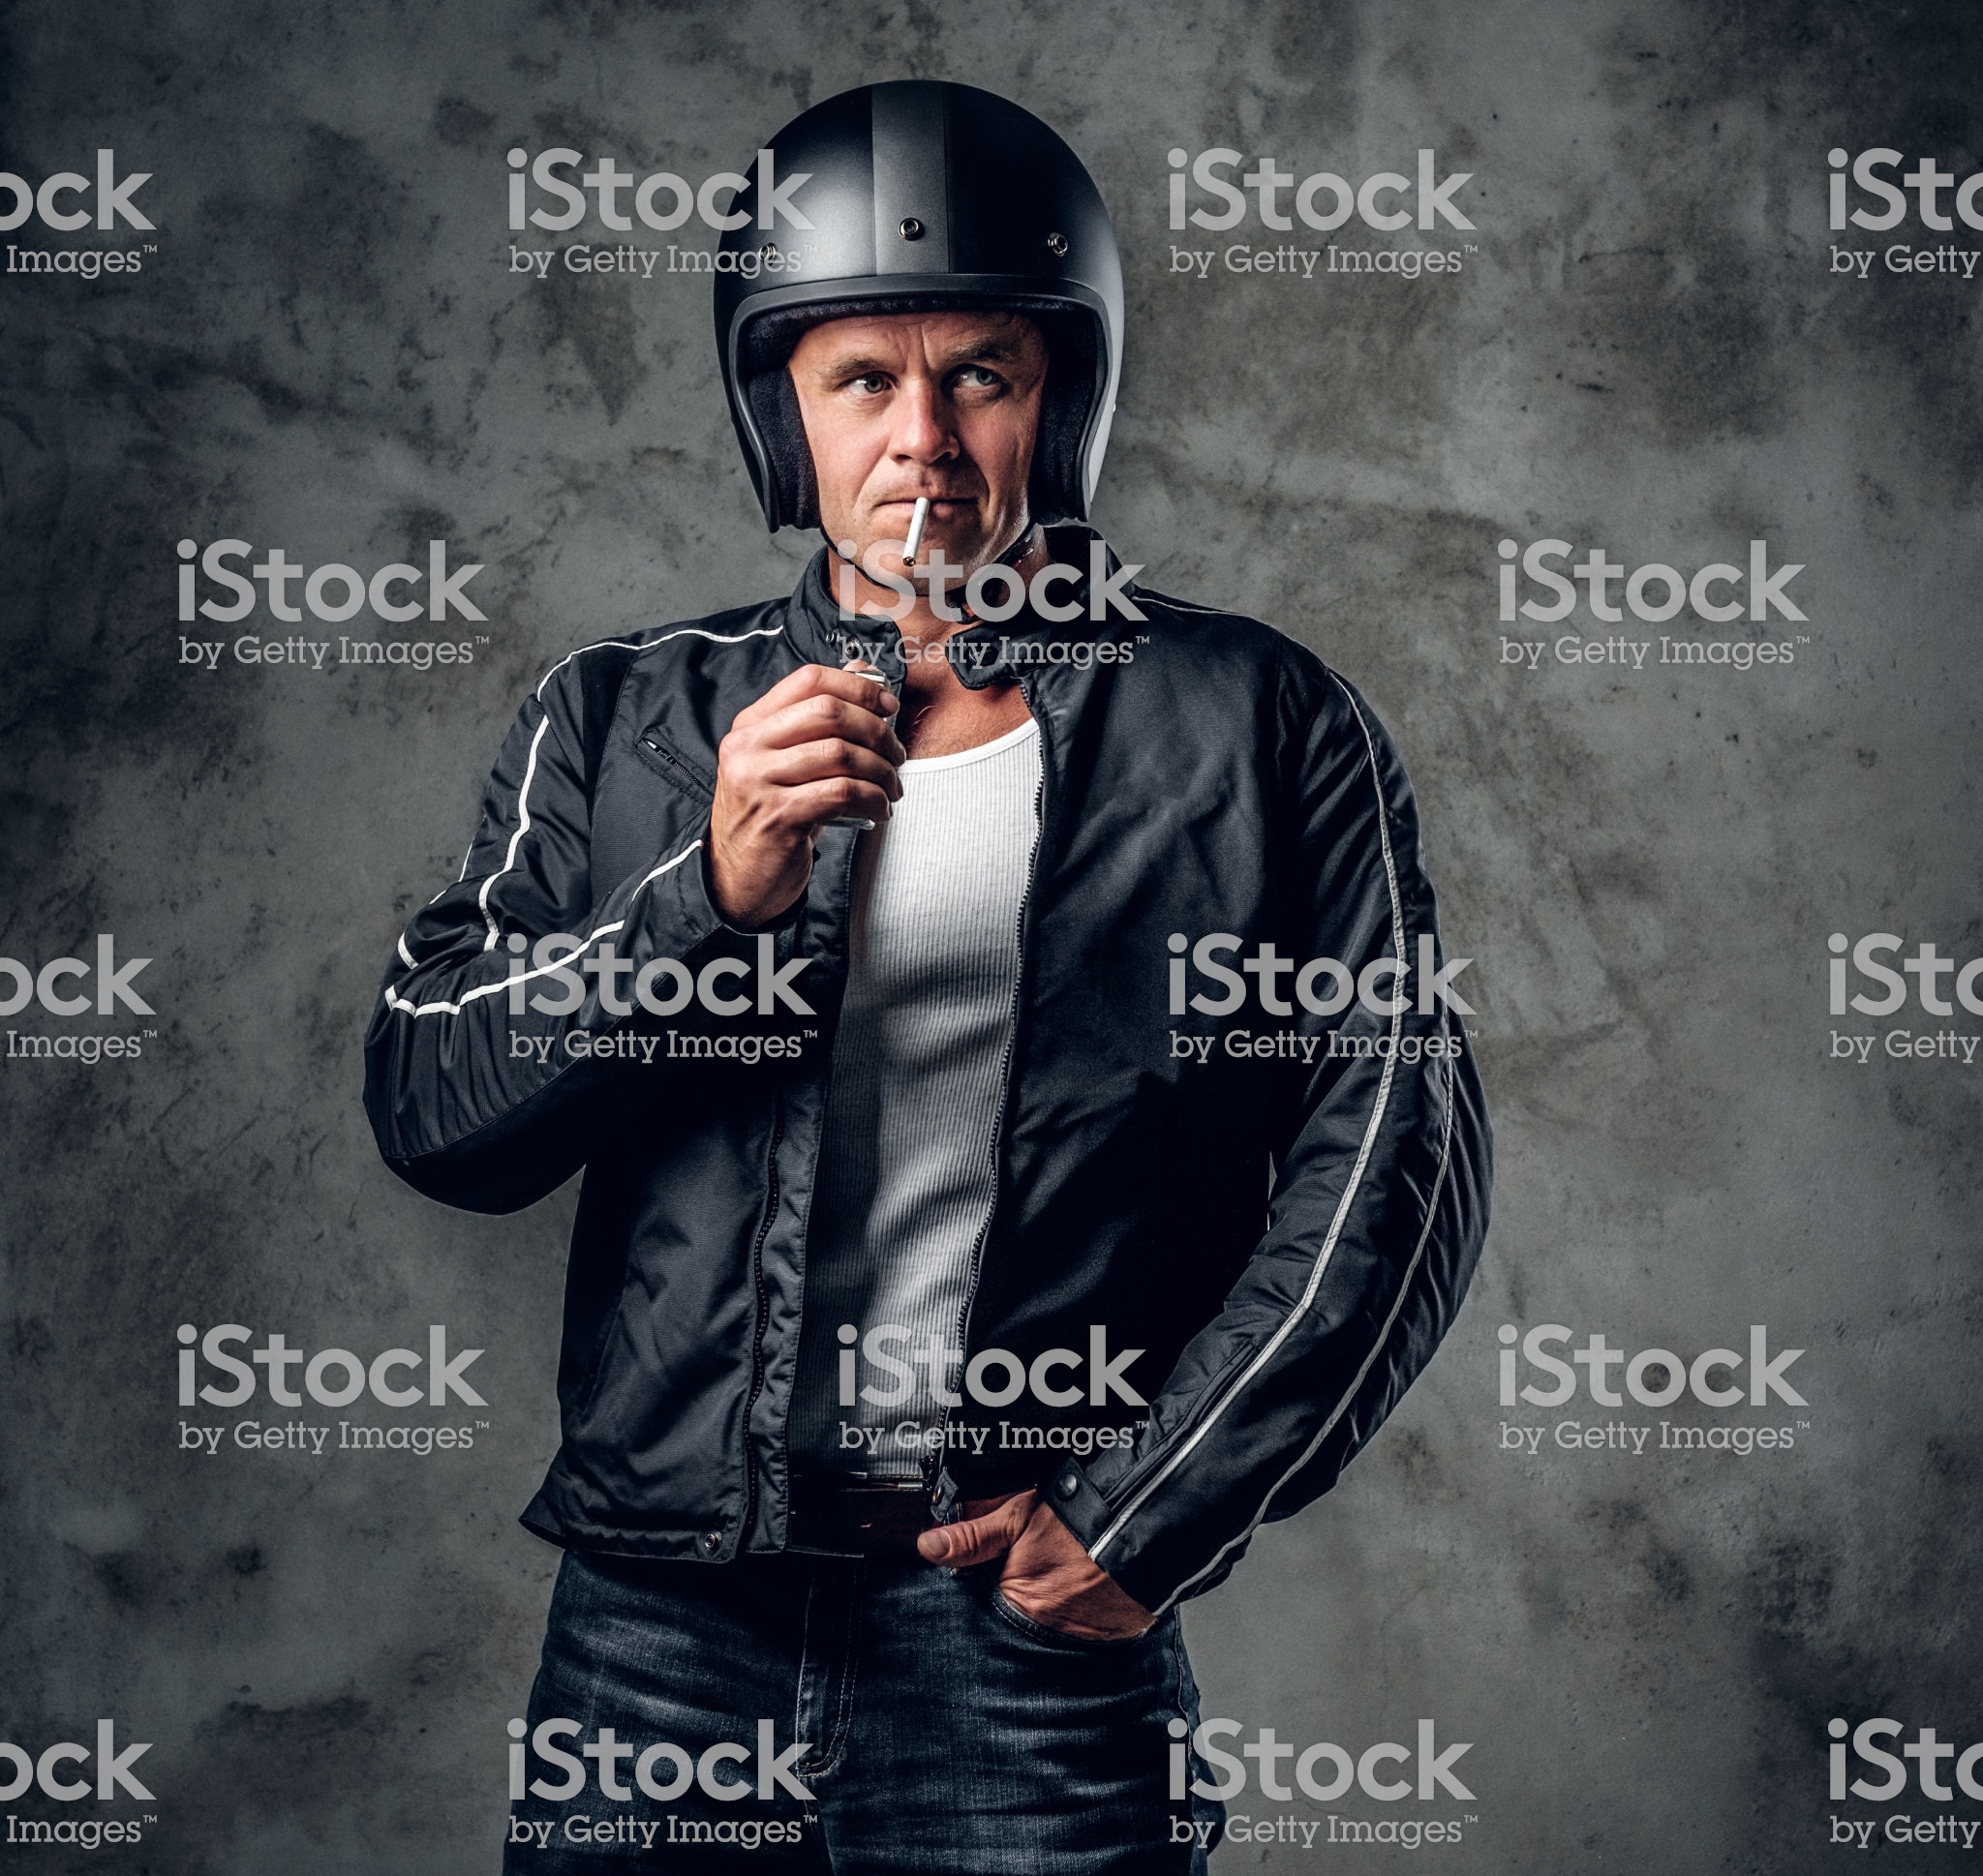helmet: (700, 108, 1164, 575)
